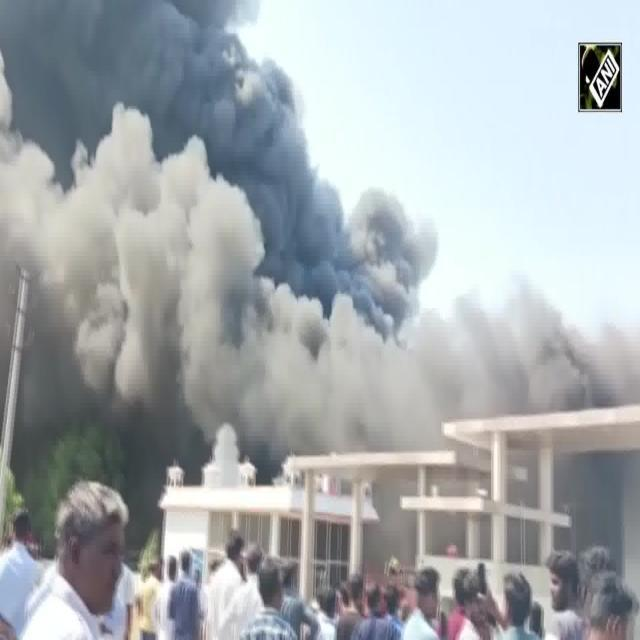Smoke: (8, 25, 258, 412), (283, 290, 502, 444)
